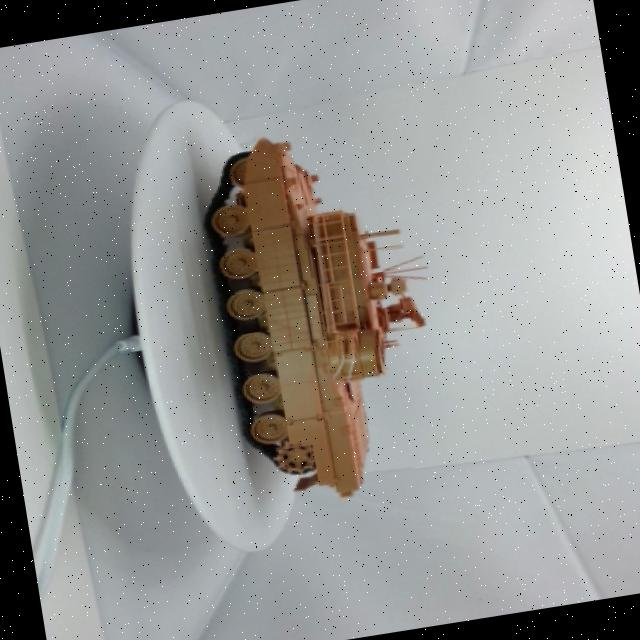korea tank: (150, 94, 497, 542)
